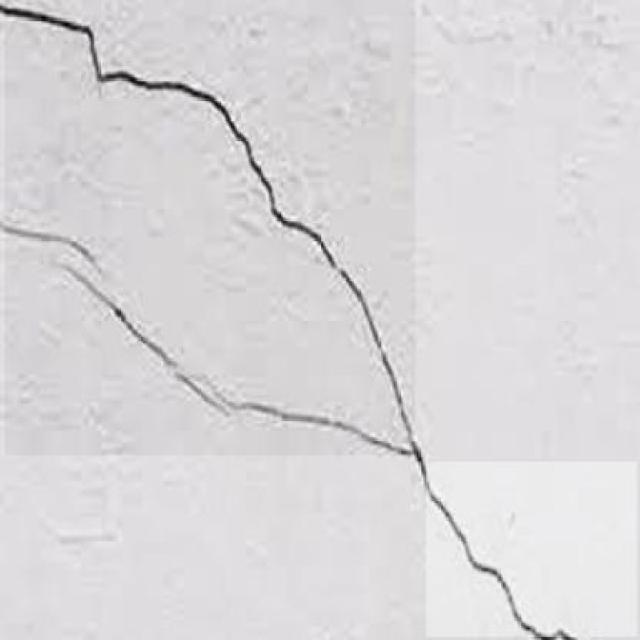Crack: (372, 356, 640, 640), (168, 70, 392, 346), (168, 357, 368, 446), (3, 0, 158, 95), (55, 277, 166, 357), (3, 212, 106, 260)
